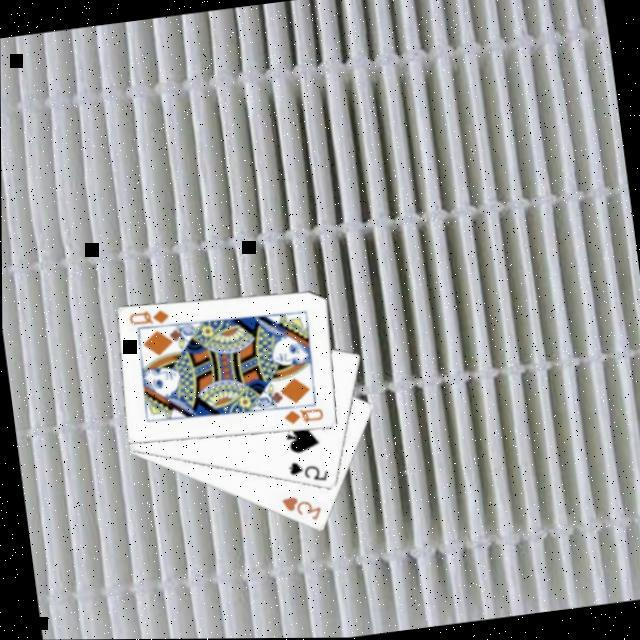3H: (274, 491, 322, 528)
5S: (282, 456, 329, 489)
QD: (122, 306, 170, 331), (278, 405, 324, 430)
